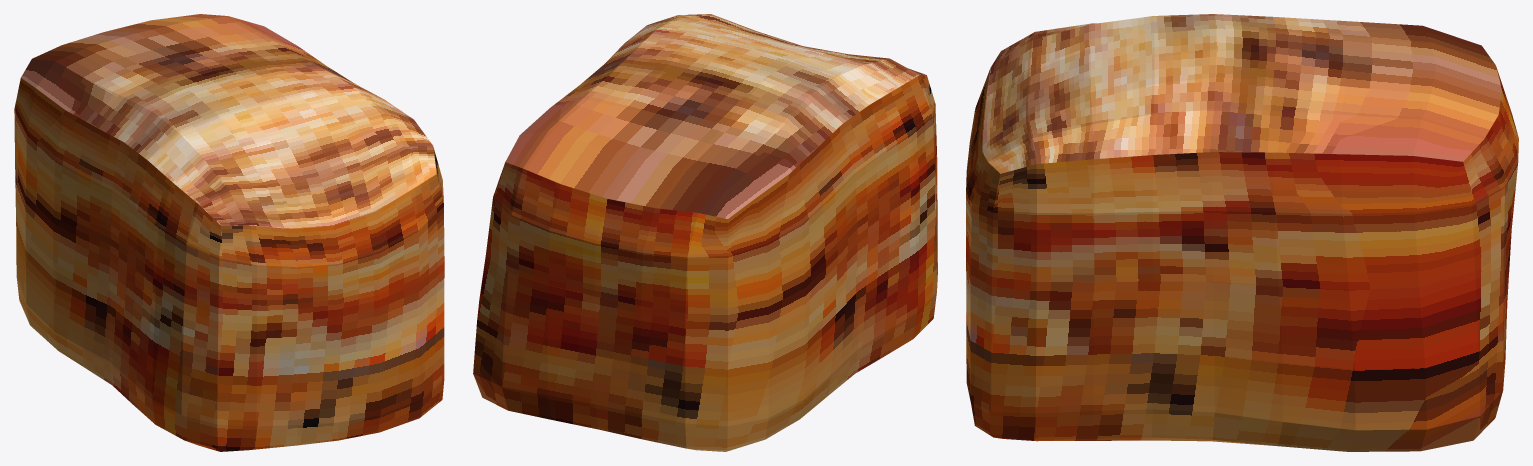
Rendered from LasagnaPiece.fbx.
3 views of the same model, side by side, from view 1: azimuth 30°, elevation 25°; view 2: azimuth 150°, elevation 25°; view 3: azimuth 270°, elevation 25° (orthographic). The views are drawn at different scales.
Parts seen in each view (by area): view 1: Lasagna; view 2: Lasagna; view 3: Lasagna.
Boxes of the visible parts, x1,y1,x2,y2 form: Lasagna: (14, 14, 444, 451); Lasagna: (473, 14, 937, 451); Lasagna: (966, 14, 1518, 451).
Size of the model in its own units: 15.02 by 14.13 by 21.26.
